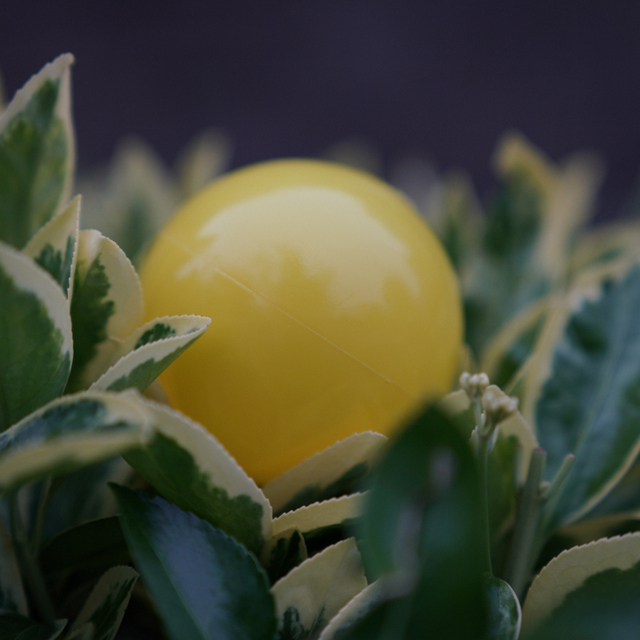Ball: (144, 161, 465, 493)
